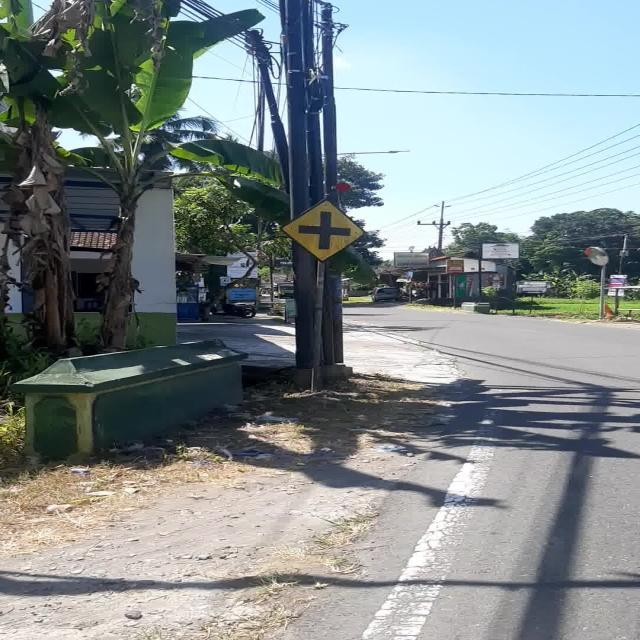Persimpangan 4: (279, 198, 365, 262)
